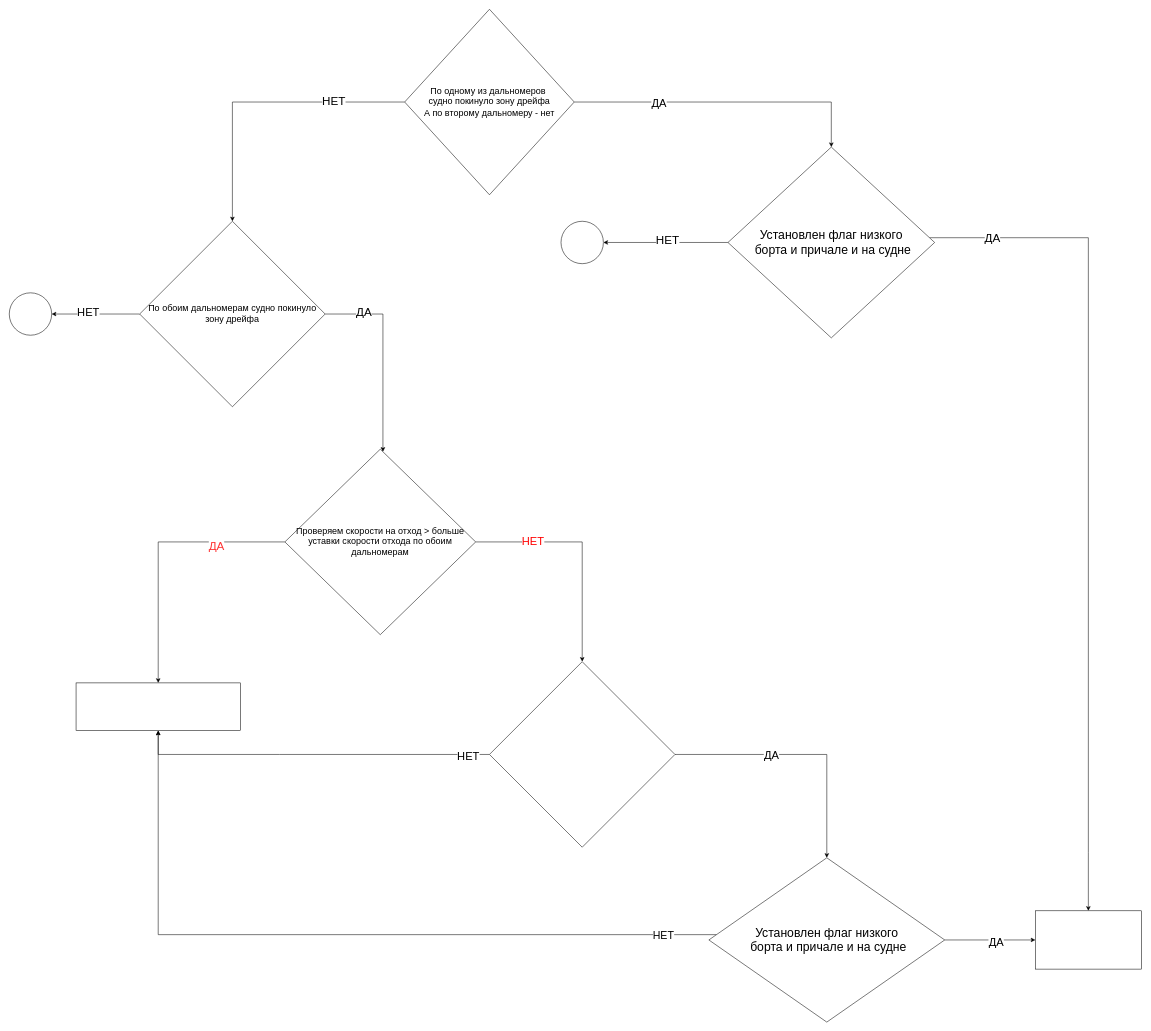
This 1151x1031 diagram has some shape labels left out. The centre of each missing label's shape, as x and y in pixels:
"Дистанция < ширины судна" goes at (582,754).
"Значит низкий борт" goes at (1088,939).
"ОТХОД" goes at (158,706).
